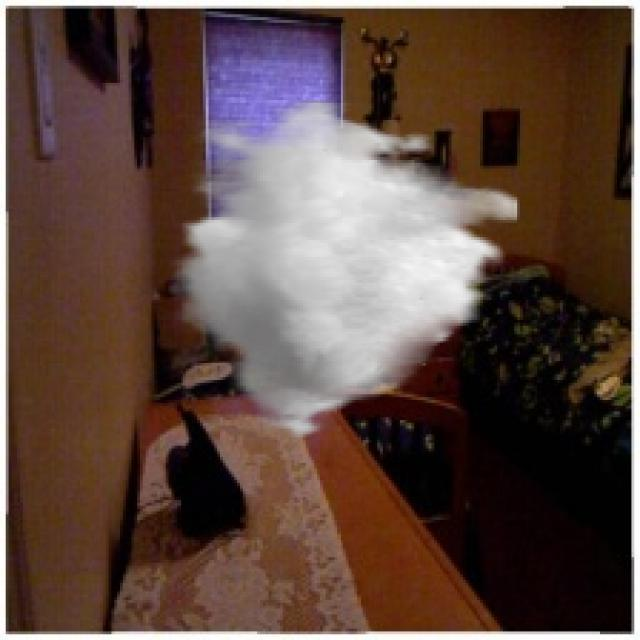Smoke: (168, 100, 520, 446)
